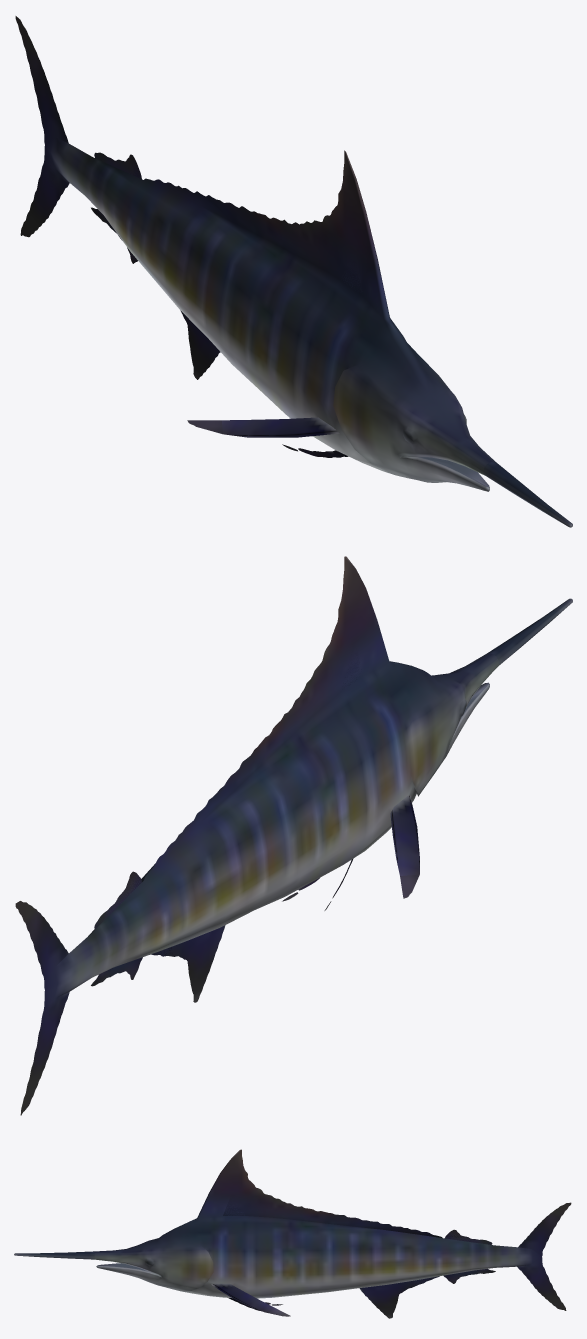
Rendered from blue-marlin.glb.
3 renders of one model, top to bottom at view 1: azimuth 30°, elevation 25°; view 2: azimuth 150°, elevation 25°; view 3: azimuth 270°, elevation 25°, orthographic. The views are drawn at different scales.
Bounding box in the file's own units: 6.59 × 9.45 × 27.36.
1 material, 1 textured.
